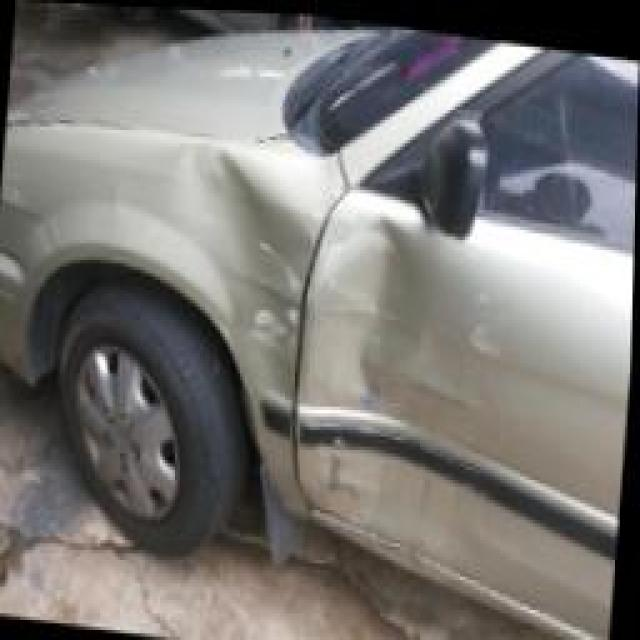Door: (282, 177, 637, 639)
Fender: (16, 138, 364, 502)
